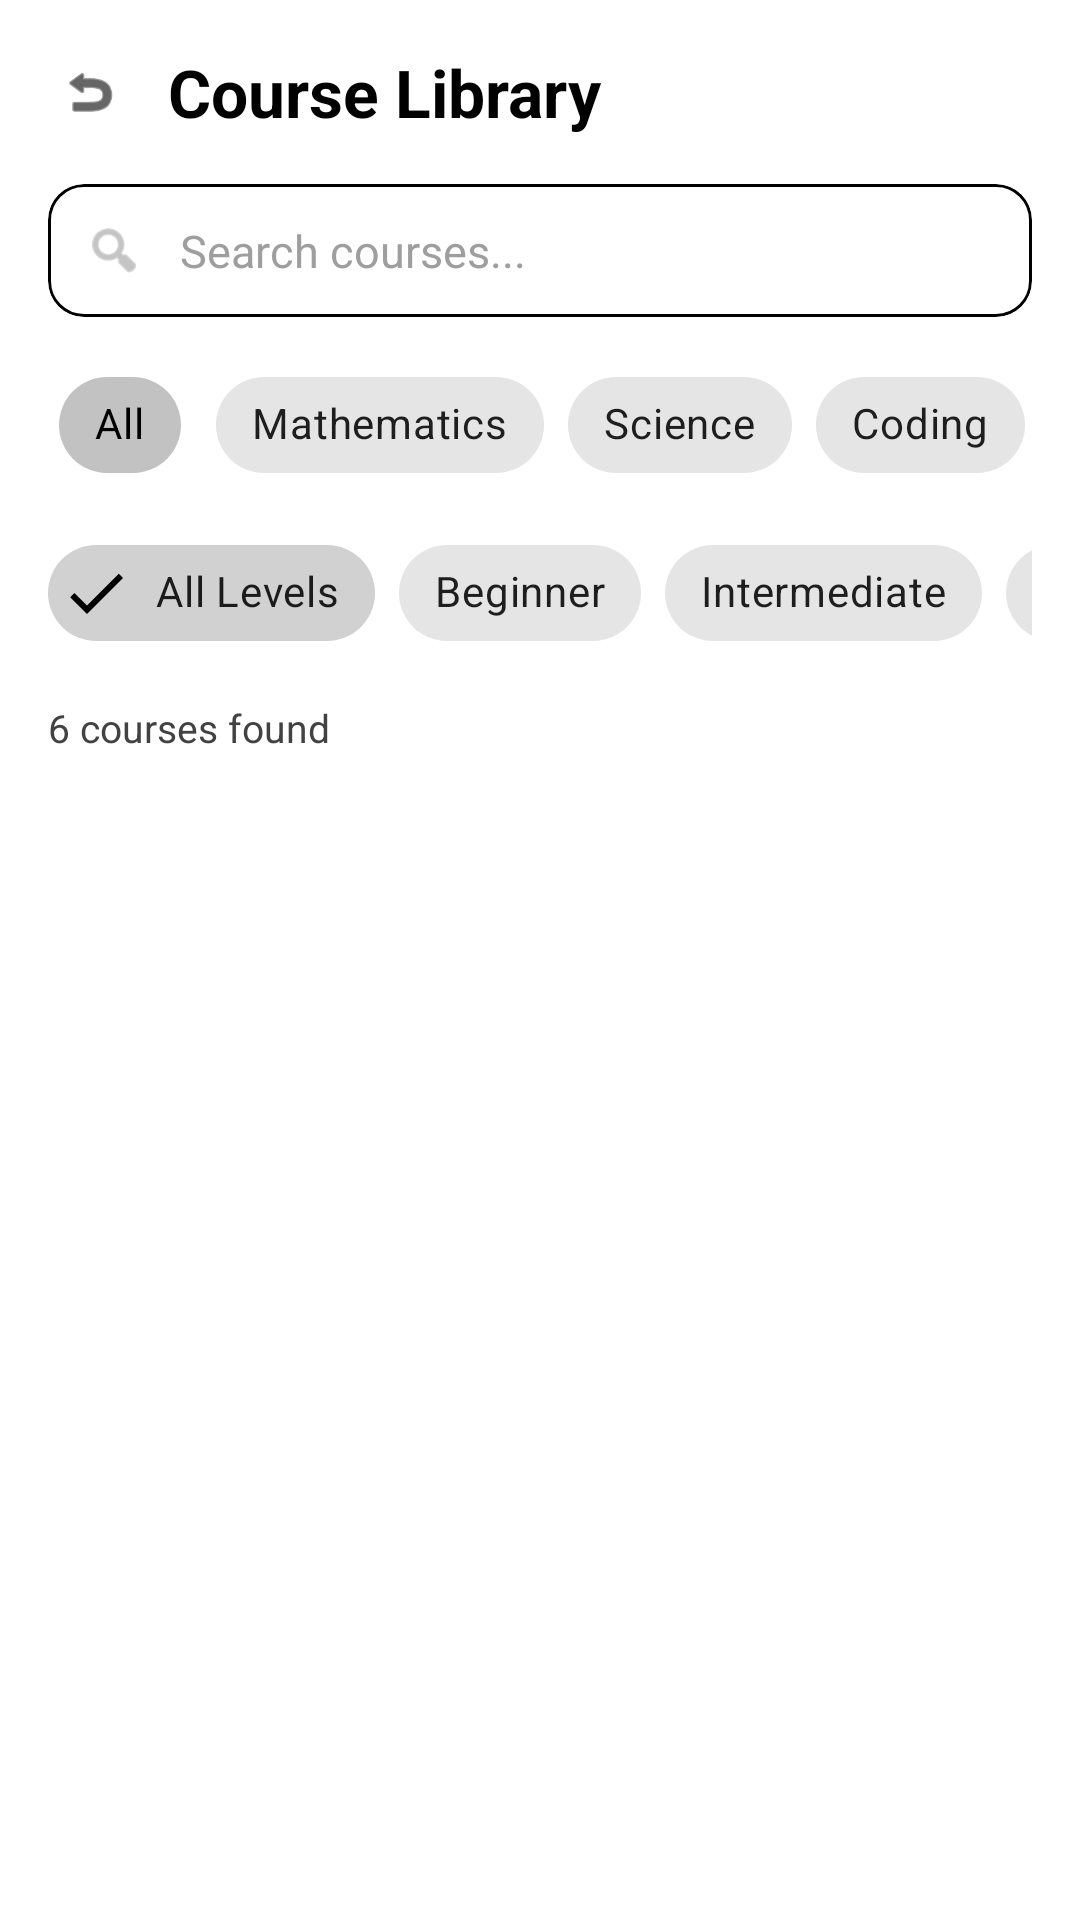

Where icons sit on this 1080 × 1920 app screen, as region(x1, y1, x2, y2):
revert: region(69, 73, 113, 112)
